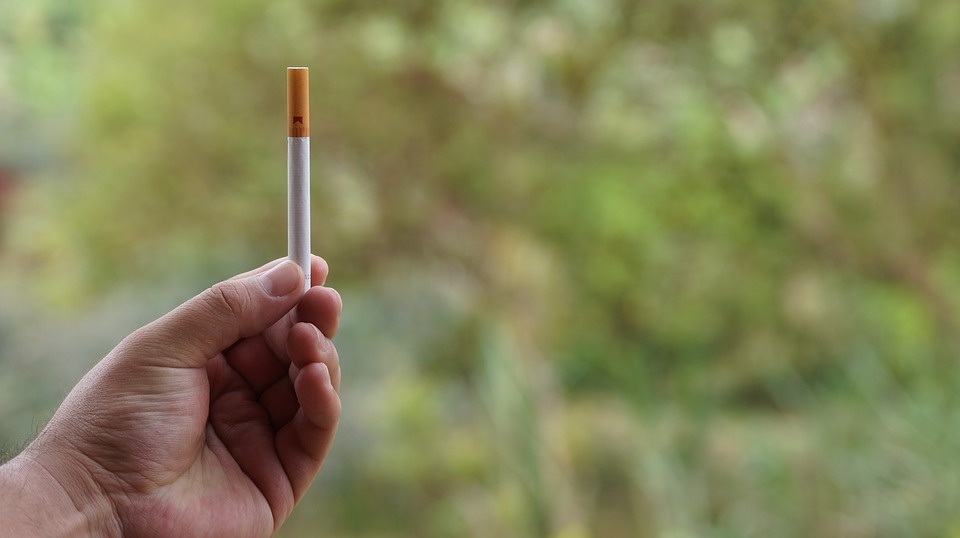sigaretta: (285, 64, 321, 283)
